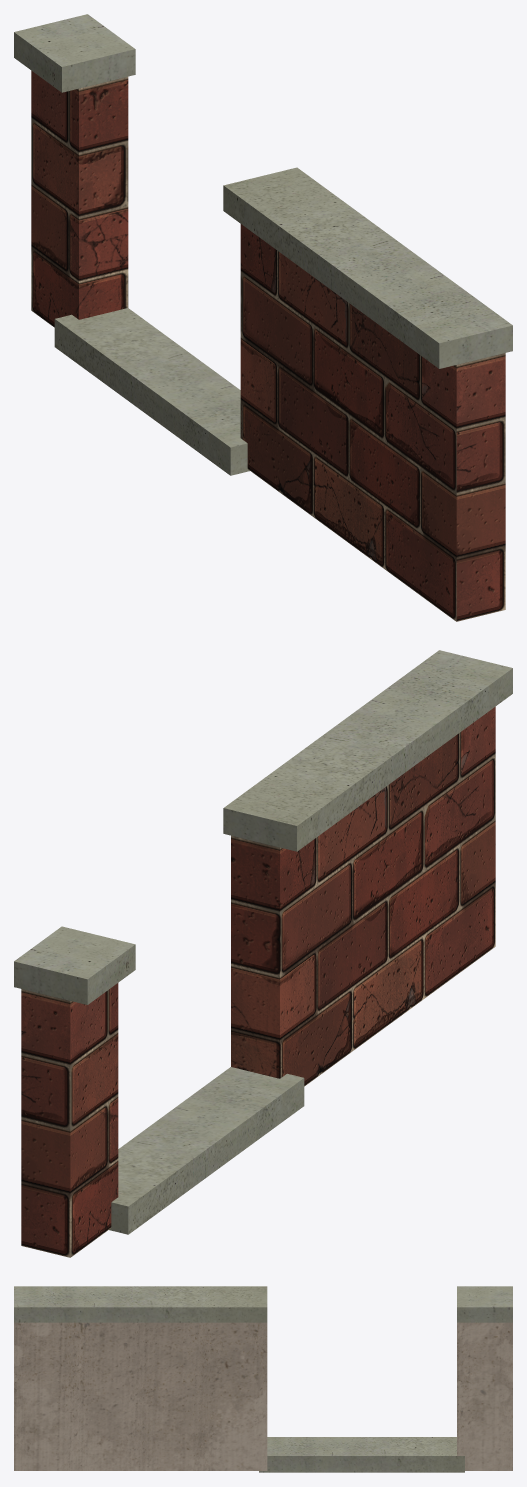
File: roof03_edgeGap.fbx
3 renders of one model, top to bottom at view 1: azimuth 30°, elevation 25°; view 2: azimuth 150°, elevation 25°; view 3: azimuth 270°, elevation 25°, orthographic. The views are drawn at different scales.
Parts seen in each view (by area): view 1: roof03_edgeGap; view 2: roof03_edgeGap; view 3: roof03_edgeGap.
Boxes of the visible parts, x1,y1,x2,y2 form: roof03_edgeGap: [14, 14, 512, 621]; roof03_edgeGap: [14, 650, 512, 1257]; roof03_edgeGap: [14, 1286, 512, 1472].
Size of the model in its own units: 30 by 111 by 300.
